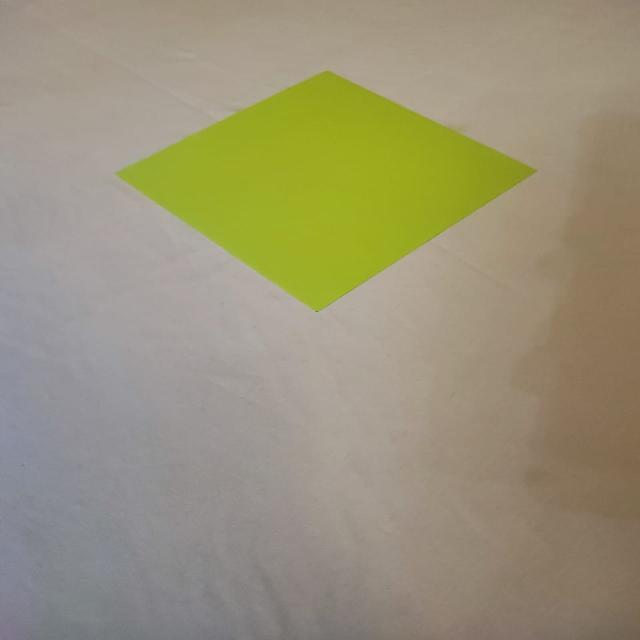Boxes: (115, 72, 536, 314)
